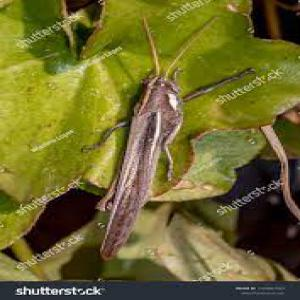locust: (47, 39, 218, 266)
